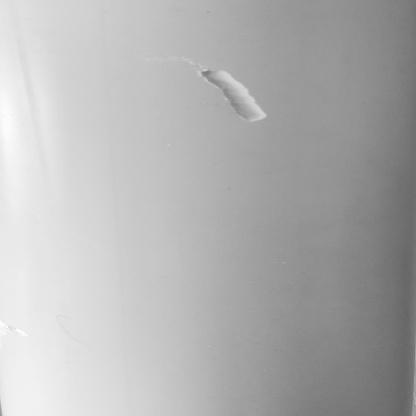sunshang: (186, 59, 279, 129)
